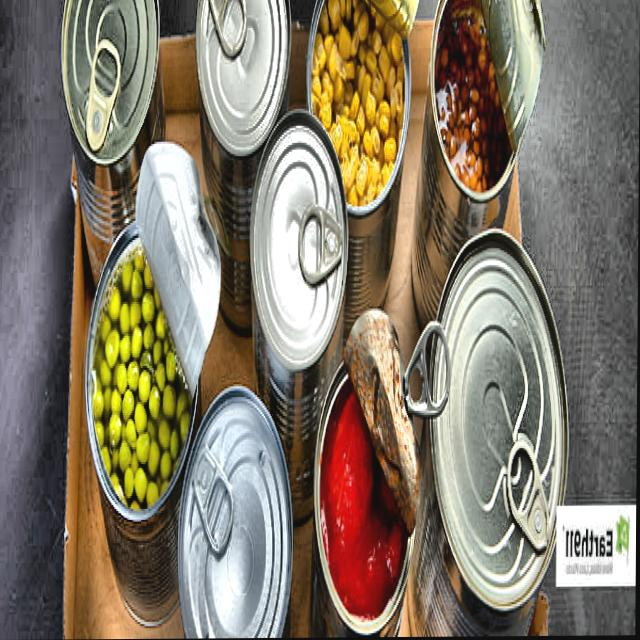can: (83, 135, 226, 634), (405, 225, 576, 637), (409, 0, 548, 348), (309, 304, 453, 638), (247, 100, 351, 536), (303, 0, 422, 351), (193, 0, 294, 344), (57, 0, 166, 313), (176, 375, 297, 639)
